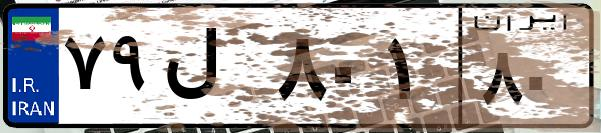0: (330, 28, 385, 110), (525, 38, 570, 115)
1: (385, 28, 445, 110)
7: (57, 26, 110, 100)
8: (270, 28, 330, 110), (475, 38, 525, 113)
9: (110, 28, 158, 98)
ل: (158, 20, 270, 120)
